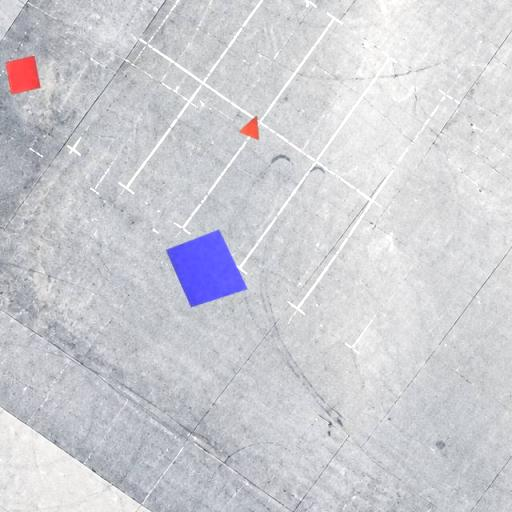BLUE_SQUARE: (166, 229, 248, 308)
RED_SQUARE: (5, 55, 41, 95)
